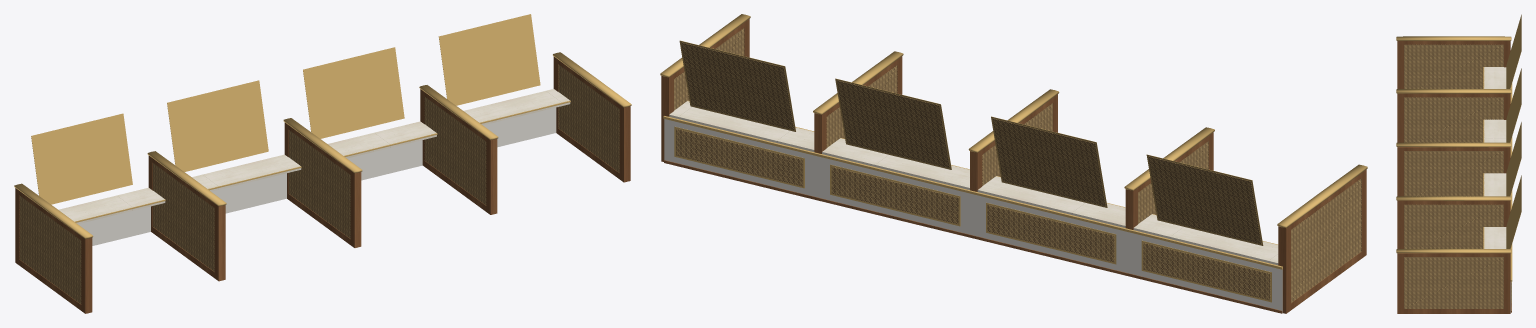
The model's file is booth_block.glb.
The picture shows the model from 3 angles, left to right: view 1: azimuth 30°, elevation 25°; view 2: azimuth 150°, elevation 25°; view 3: azimuth 270°, elevation 25°; orthographic projection. The views are drawn at different scales.
Visible parts, largest first — view 1: resort; view 2: resort; view 3: resort.
Part boxes in pixels (x1,y1,x2,y2): resort: (14,14,631,313); resort: (660,14,1367,313); resort: (1396,14,1521,313).
Bounding box in the file's own units: 15.3 × 3.1 × 3.76.
5 materials, 3 textured.
